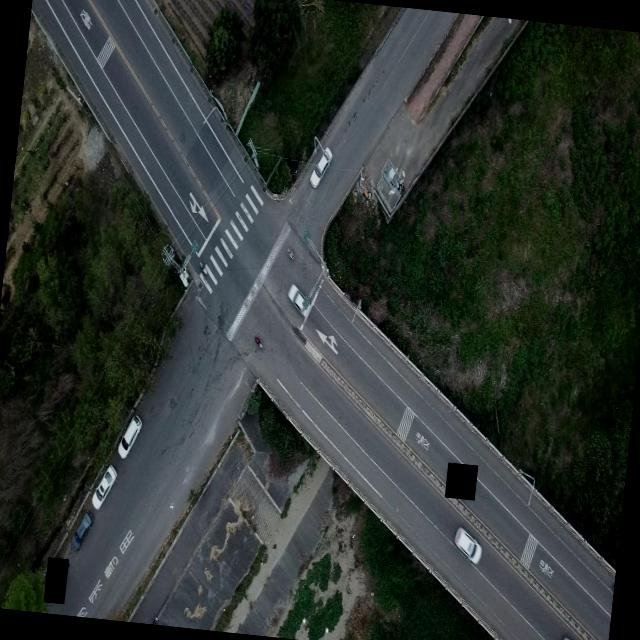bike: (252, 334, 262, 348)
car: (451, 525, 484, 564), (90, 461, 116, 510), (116, 412, 143, 458), (283, 278, 311, 316), (308, 145, 332, 188), (70, 507, 92, 553), (556, 633, 589, 640)
